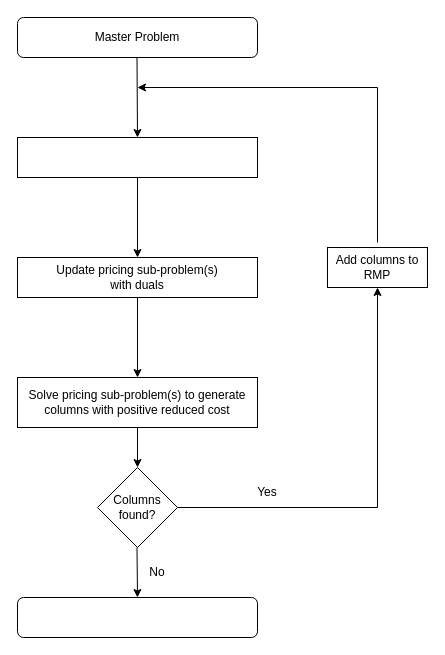
The diagram is 445 pixels wide and 655 high, and some of its shapes have lost their labels. Here are the shapes that lost their labels. From the top down, the box of each, then its label:
(16, 136, 258, 178): Solve Restricted Master Problem (RMP)
(16, 596, 258, 638): STOP - solution found
